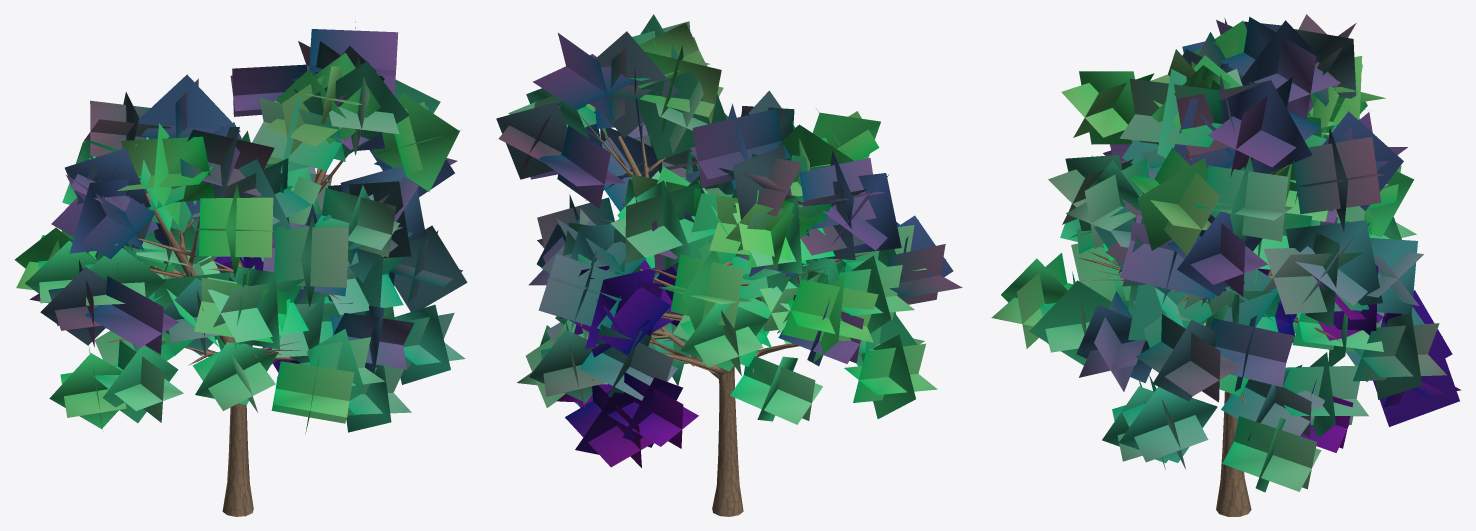
File: Oak_LOD0_P2461_B1800_L530_v03.fbx
The picture shows the model from 3 angles, left to right: view 1: azimuth 30°, elevation 25°; view 2: azimuth 150°, elevation 25°; view 3: azimuth 270°, elevation 25°; orthographic projection. The views are drawn at different scales.
Parts seen in each view (by area): view 1: oakleafcard.png_1, white_oak_bark_v01_0; view 2: oakleafcard.png_1, white_oak_bark_v01_0; view 3: oakleafcard.png_1, white_oak_bark_v01_0.
Boxes of the visible parts, x1,y1,x2,y2 form: oakleafcard.png_1: (14,21,467,434); white_oak_bark_v01_0: (98,155,388,516); oakleafcard.png_1: (496,14,962,467); white_oak_bark_v01_0: (576,110,875,516); oakleafcard.png_1: (991,14,1461,492); white_oak_bark_v01_0: (1079,152,1349,516).
Size of the model in its own units: 1220 by 1263 by 1071.
